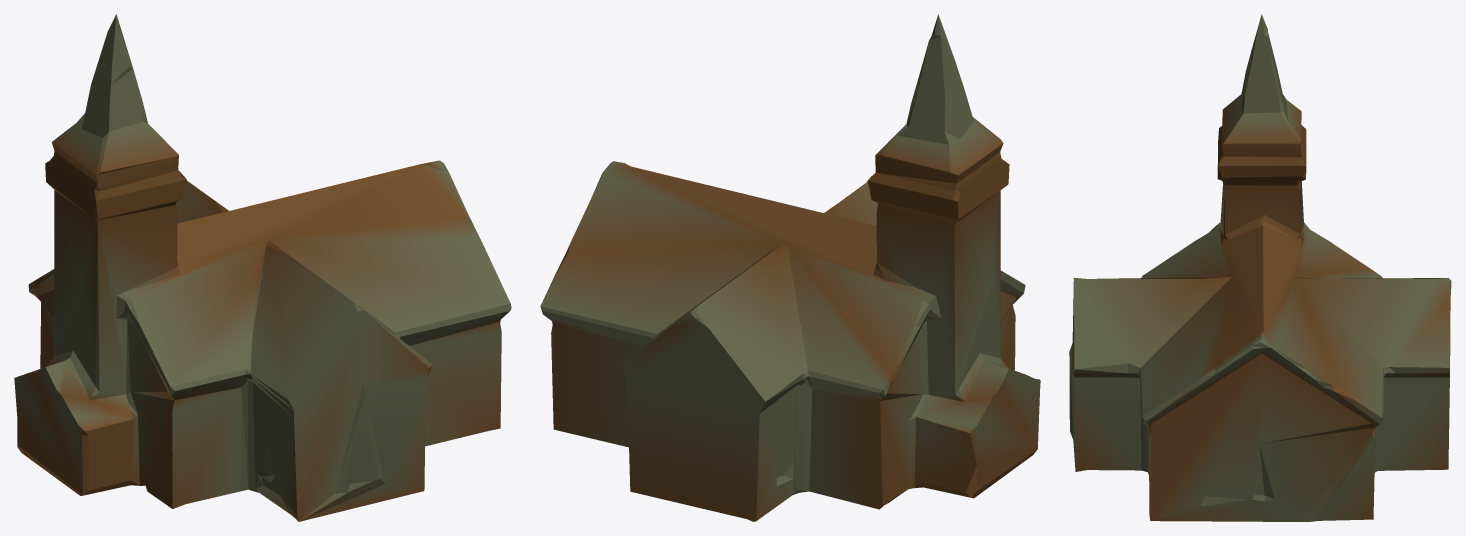
The model's file is Churches(4).glb.
The picture shows the model from 3 angles, left to right: view 1: azimuth 30°, elevation 25°; view 2: azimuth 150°, elevation 25°; view 3: azimuth 270°, elevation 25°; orthographic projection. The views are drawn at different scales.
Parts seen in each view (by area): view 1: Root; view 2: Root; view 3: Root.
Boxes of the visible parts, x1,y1,x2,y2 form: Root: (14,14,511,521); Root: (540,14,1040,521); Root: (1069,14,1451,521).
Bounding box in the file's own units: 11.07 × 11.78 × 10.83.
